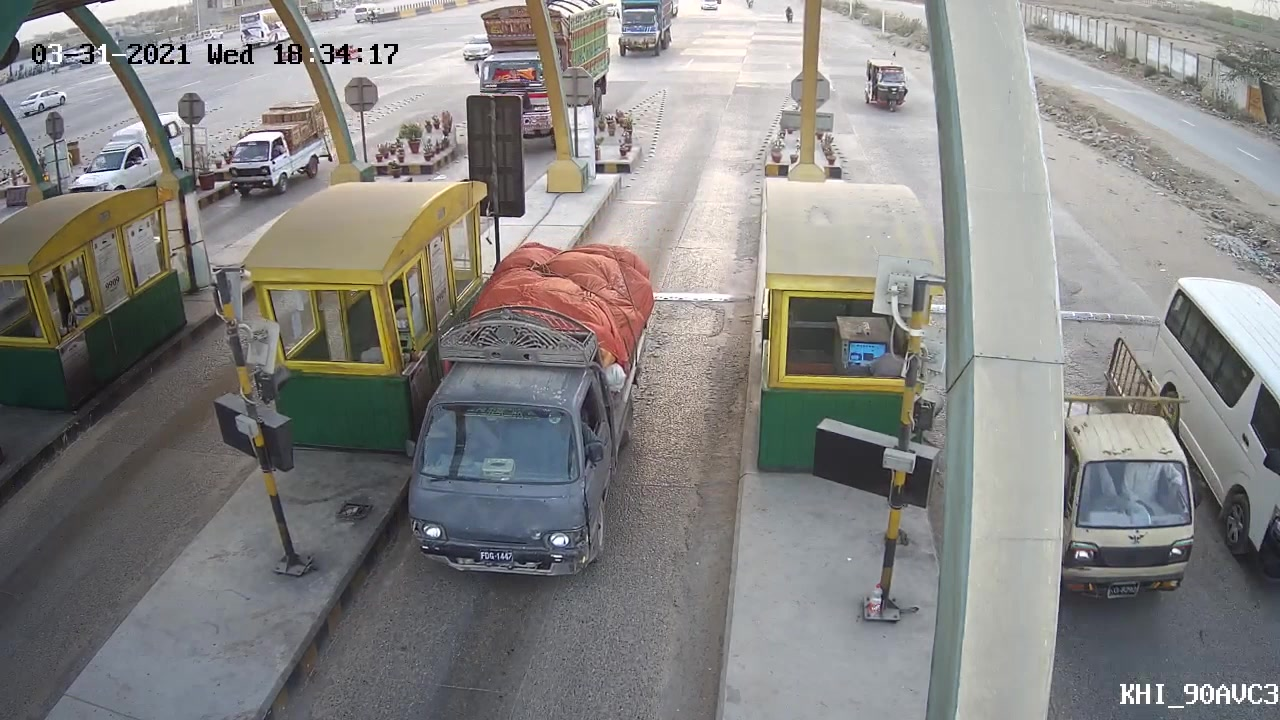F2: (400, 285, 649, 593)
